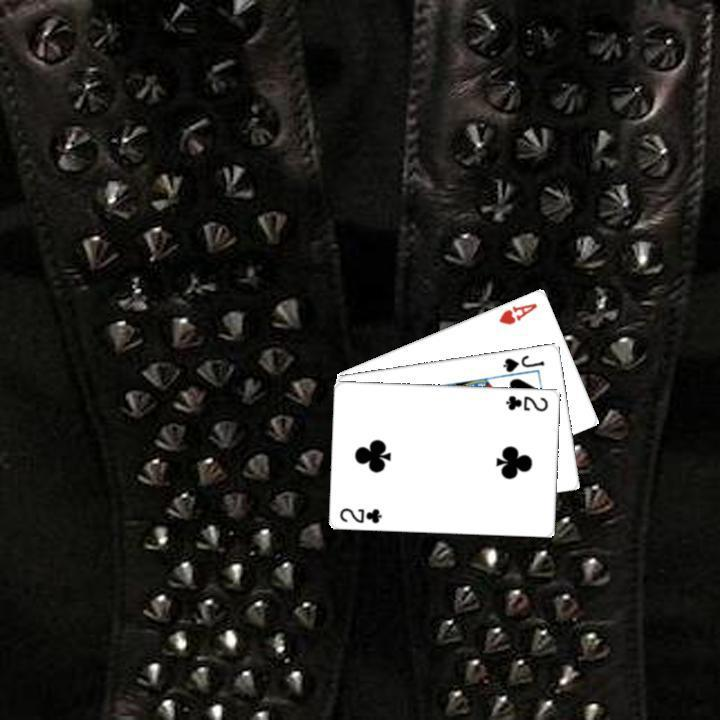2: (502, 391, 550, 413), (336, 503, 384, 525)
A: (494, 298, 539, 326)
J: (499, 350, 546, 374)
